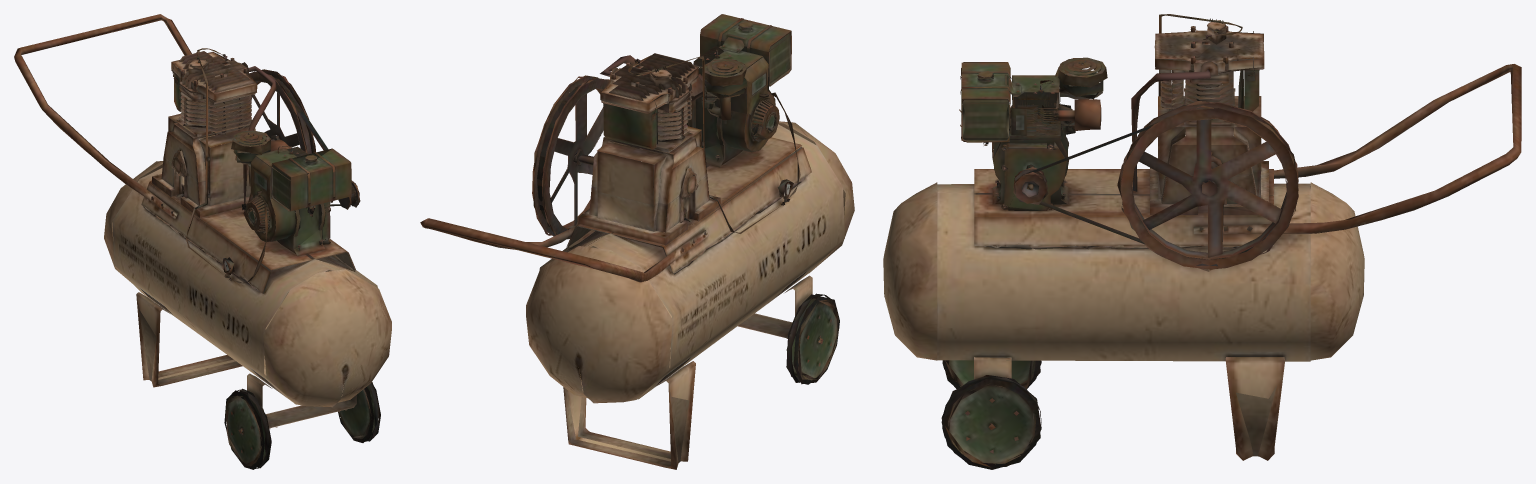
The model's file is compressor.gltf.
3 views of the same model, side by side, from view 1: azimuth 30°, elevation 25°; view 2: azimuth 150°, elevation 25°; view 3: azimuth 270°, elevation 25° (orthographic). The views are drawn at different scales.
Parts seen in each view (by area): view 1: old_military_compressor; view 2: old_military_compressor; view 3: old_military_compressor.
Boxes of the visible parts, bbox=[...] form: old_military_compressor: bbox=[14, 14, 391, 469]; old_military_compressor: bbox=[420, 14, 854, 469]; old_military_compressor: bbox=[883, 14, 1521, 469].
Size of the model in its own units: 0.5968 by 1.18 by 1.67.
2 materials, 2 textured.
